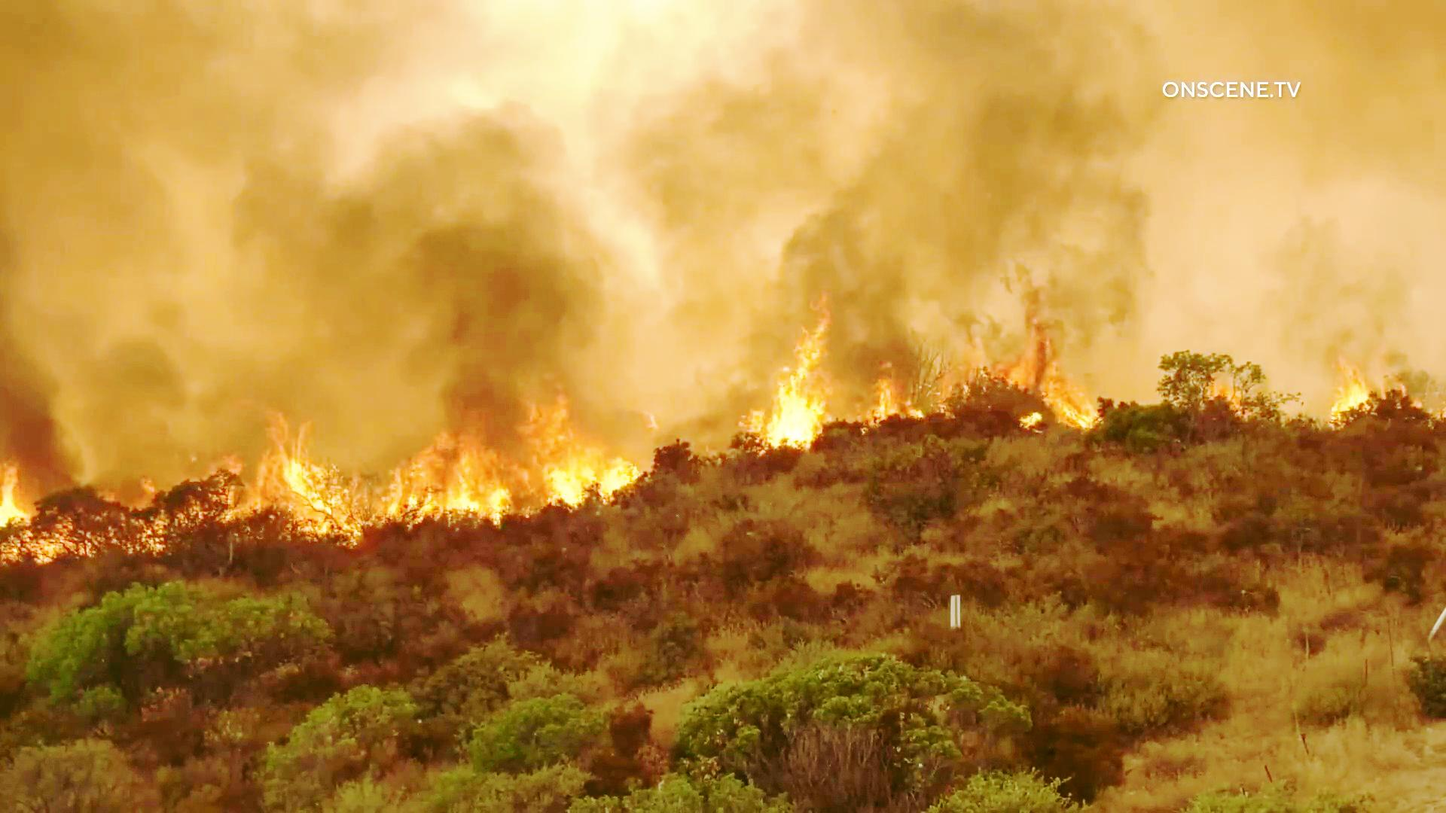fire: (221, 416, 635, 556), (734, 308, 847, 460)
smoke: (849, 19, 1141, 268)
